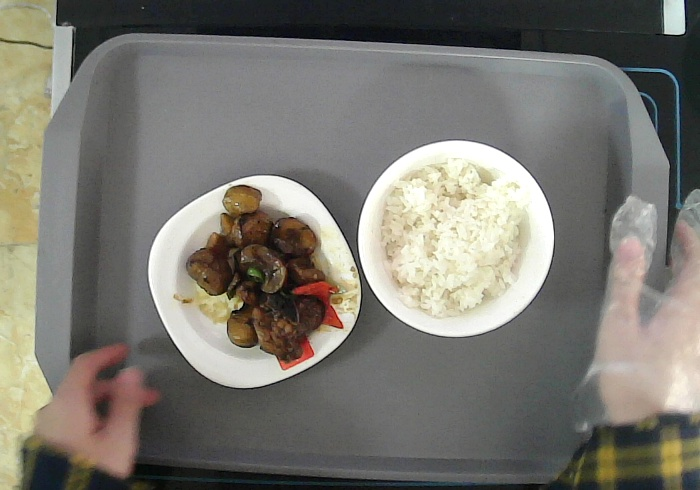SHKJ-Bai_Se_Si_Fang_Cai_Die: (145, 173, 364, 393)
SHKJ-Fan_Wan: (355, 137, 557, 341)
